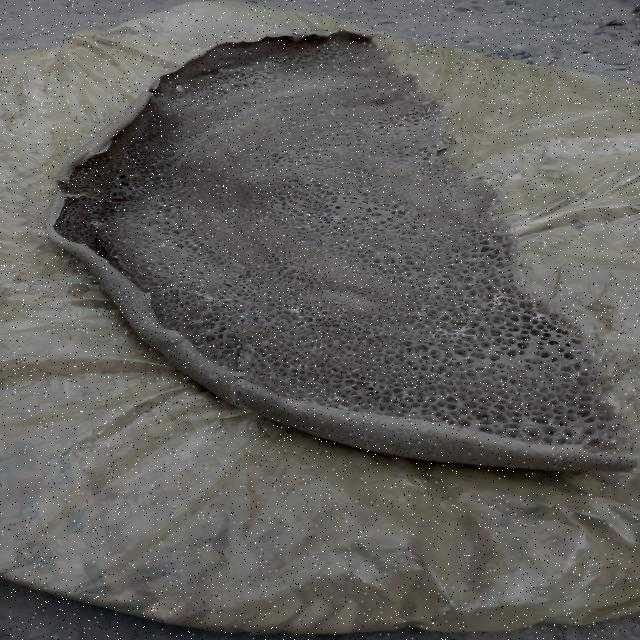injera_mold: (428, 324, 480, 341), (299, 394, 357, 409), (486, 293, 524, 314), (195, 288, 238, 302), (234, 310, 264, 324), (363, 382, 388, 398), (234, 388, 255, 400), (530, 309, 550, 321), (288, 306, 306, 318), (319, 213, 338, 224), (85, 220, 108, 227), (286, 363, 306, 371), (294, 223, 312, 231), (132, 186, 148, 194), (258, 216, 271, 223), (240, 282, 252, 289), (401, 390, 409, 400), (402, 293, 412, 299), (286, 287, 296, 292), (342, 265, 349, 271), (206, 106, 214, 110), (160, 244, 167, 246), (170, 246, 176, 248)
